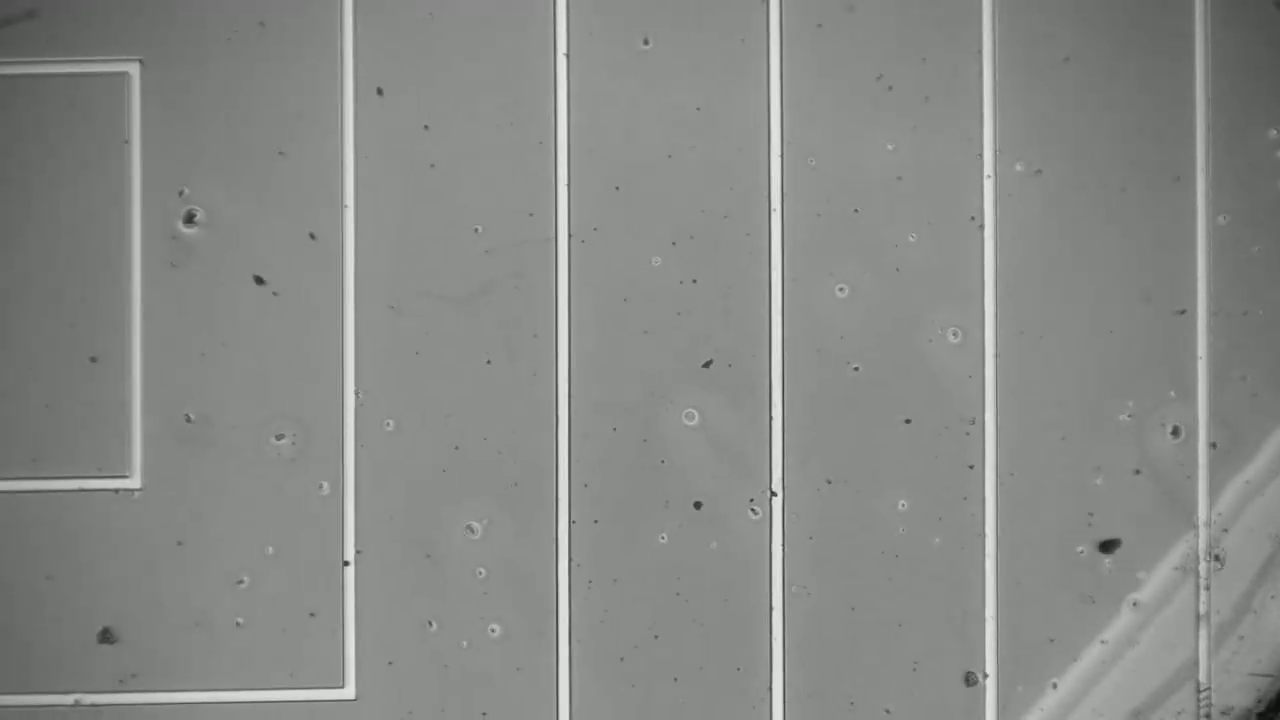stains_enbedded: (766, 483, 788, 503)
